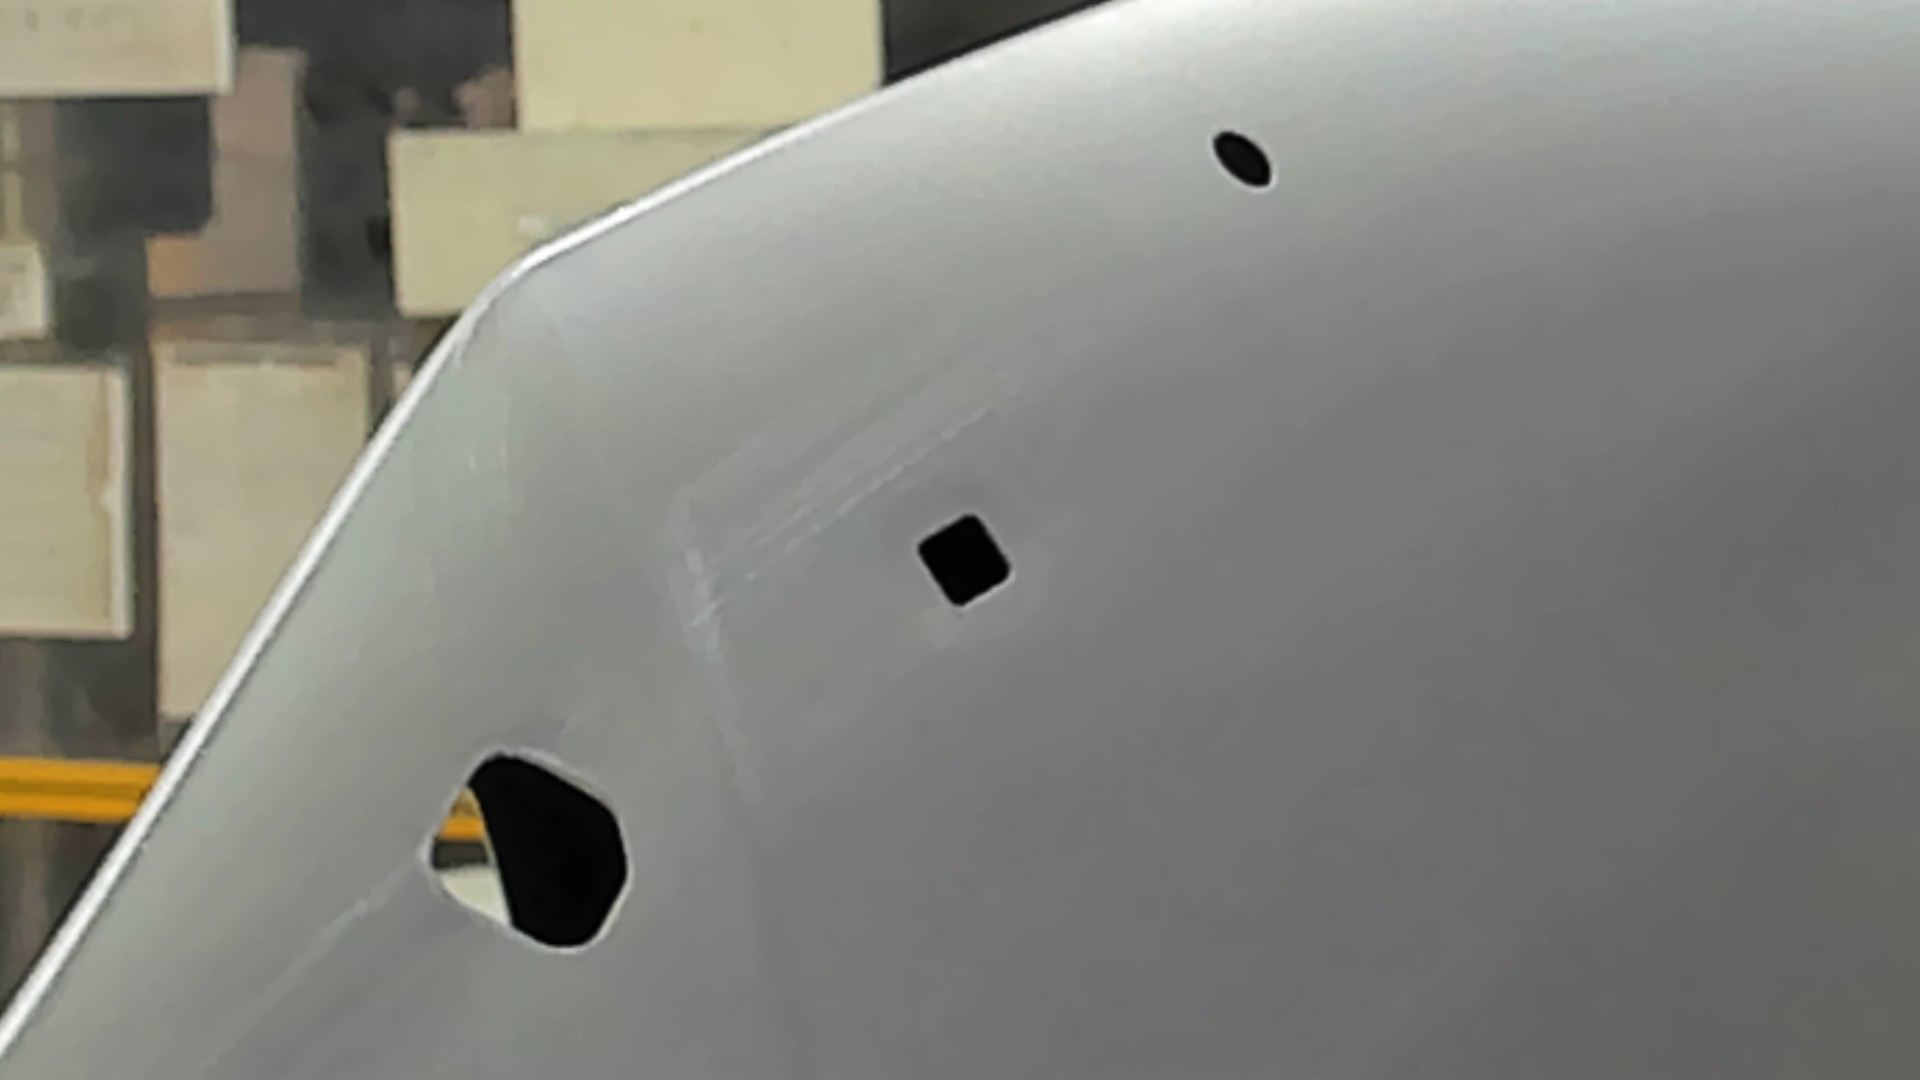chico: (1211, 127, 1278, 194)
grande: (418, 744, 641, 965)
mediano: (913, 509, 1015, 611)
